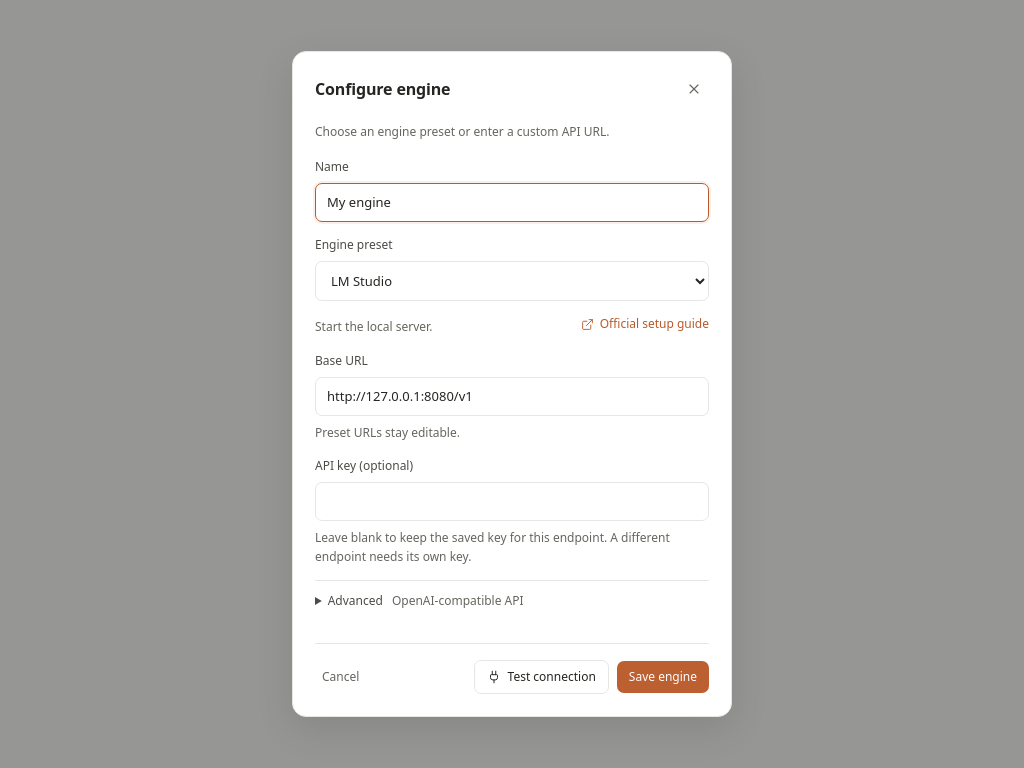
engine presets › keeps preset connection fields primary and the editable protocol in a closed native disclosure
This screenshot has width=1024, height=768.
Expected: the field labelled "Name" is shown, x1=315 y1=183 x2=709 y2=222
Expected: the field labelled "Base URL" is shown, x1=315 y1=377 x2=709 y2=416
Click the text "Advanced": (355, 601) x1=328 y1=592 x2=383 y2=609
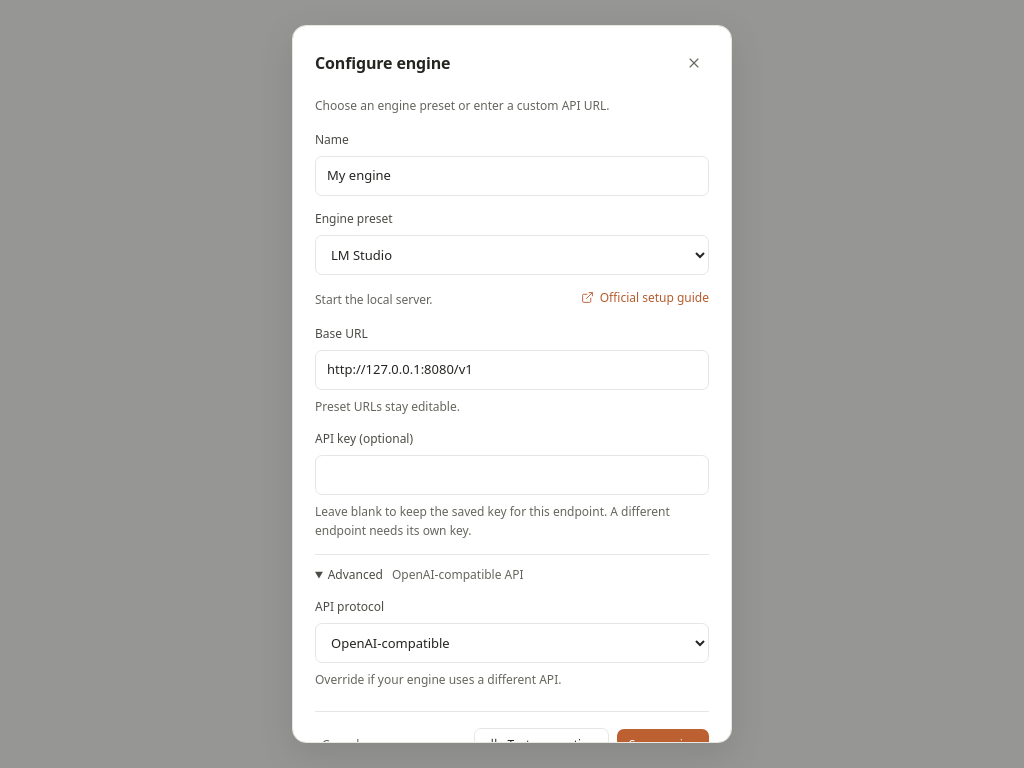
Expected: the dropdown labelled "API protocol" shows "OpenAI-compatible", x1=315 y1=623 x2=709 y2=663
